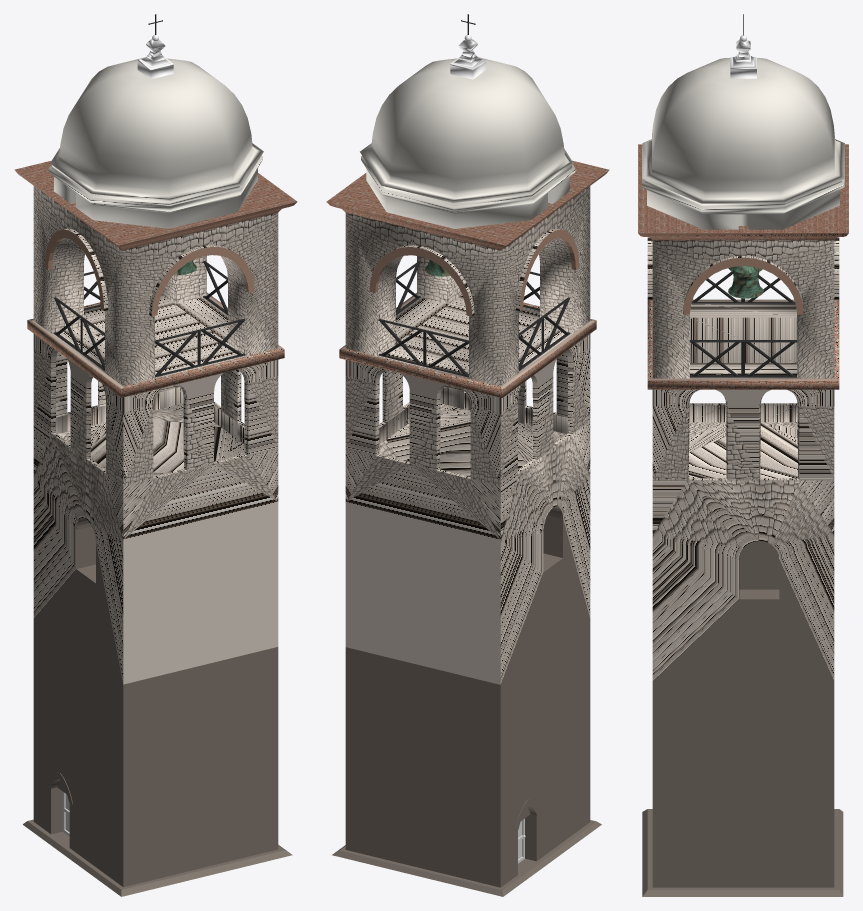
Rendered from campanile.fbx.
3 renders of one model, left to right at view 1: azimuth 30°, elevation 25°; view 2: azimuth 150°, elevation 25°; view 3: azimuth 270°, elevation 25°, orthographic.
Visible parts, largest first — view 1: Sezione centrale, Sezione inferiore, Sezione superiore, Cupola, Cornicione cupola, Cornicione centrale, Ringhiera superiore, Cornicione inferiore, Punta cupola; view 2: Sezione centrale, Sezione inferiore, Sezione superiore, Cupola, Cornicione cupola, Cornicione centrale, Ringhiera superiore, Cornicione inferiore, Punta cupola; view 3: Sezione centrale, Sezione inferiore, Cupola, Sezione superiore, Cornicione cupola, Cornicione inferiore, Cornicione centrale, Ringhiera superiore, Campana destra, Punta cupola.
Part boxes in pixels (x1,y1,x2,y2): Sezione centrale: [33, 334, 278, 684]; Sezione inferiore: [33, 619, 278, 887]; Sezione superiore: [33, 186, 278, 386]; Cupola: [49, 57, 263, 228]; Cornicione cupola: [14, 160, 297, 250]; Cornicione centrale: [27, 292, 284, 397]; Ringhiera superiore: [53, 261, 245, 377]; Cornicione inferiore: [23, 819, 292, 896]; Punta cupola: [137, 34, 173, 79]; Sezione centrale: [345, 334, 590, 684]; Sezione inferiore: [345, 620, 590, 887]; Sezione superiore: [345, 186, 590, 386]; Cupola: [360, 57, 575, 228]; Cornicione cupola: [326, 160, 609, 250]; Cornicione centrale: [339, 293, 596, 397]; Ringhiera superiore: [378, 261, 570, 377]; Cornicione inferiore: [332, 820, 601, 896]; Punta cupola: [450, 35, 486, 79]; Sezione centrale: [652, 389, 834, 681]; Sezione inferiore: [652, 681, 834, 887]; Cupola: [642, 58, 844, 229]; Sezione superiore: [647, 237, 839, 378]; Cornicione cupola: [638, 144, 848, 240]; Cornicione inferiore: [642, 809, 843, 896]; Cornicione centrale: [647, 299, 839, 389]; Ringhiera superiore: [690, 271, 796, 377]; Campana destra: [728, 266, 763, 298]; Punta cupola: [730, 35, 756, 78].
Bounding box in the file's own units: 650 × 2853 × 650.
